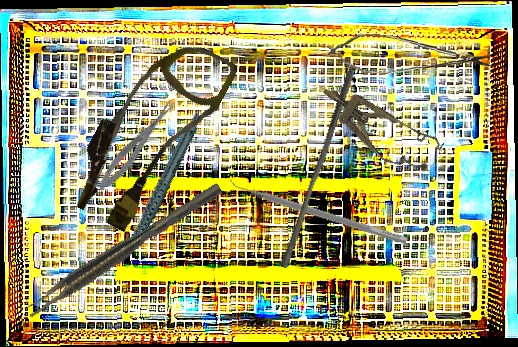Cannula: (60, 21, 240, 244)
Handpiece: (87, 111, 230, 270)
Micro Scissor: (92, 98, 181, 195), (323, 31, 494, 80)
Pusher: (279, 63, 357, 271)
Spatula Surgical: (226, 174, 411, 245)
Speculum: (310, 69, 446, 184)
Tissue Forceps: (22, 181, 227, 321)
